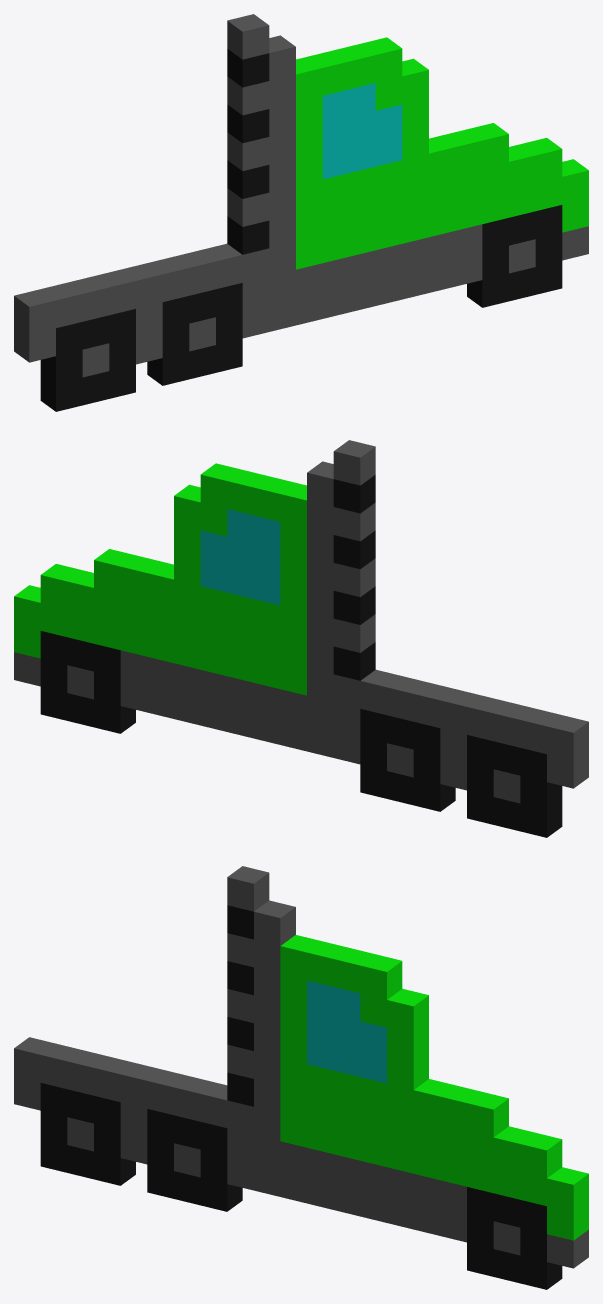
File: progress_truck.obj
3 views of the same model, one above another, from view 1: azimuth 30°, elevation 25°; view 2: azimuth 150°, elevation 25°; view 3: azimuth 330°, elevation 25° (orthographic).
Parts seen in each view (by area): view 1: progress_truck; view 2: progress_truck; view 3: progress_truck.
Part boxes in pixels (x1,y1,x2,y2): progress_truck: (14, 14, 588, 411); progress_truck: (14, 440, 588, 837); progress_truck: (14, 866, 588, 1289).
Bounding box in the file's own units: 21 × 12 × 1.
Materials: 1 (1 with a texture image).
